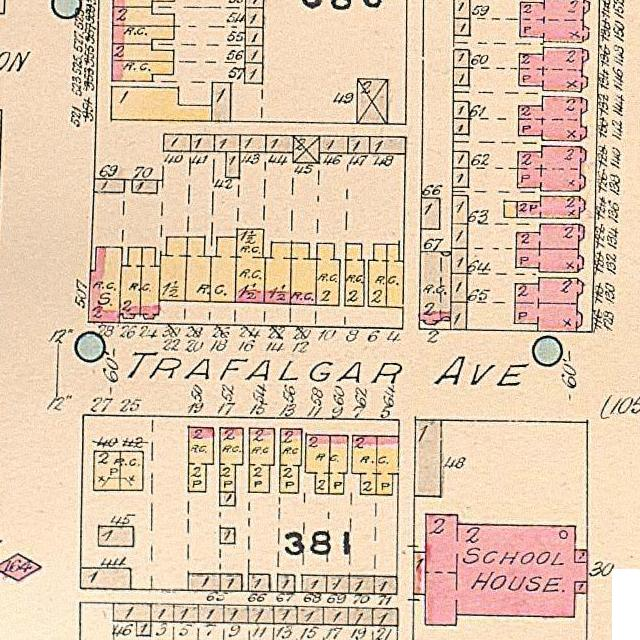building-footprints: (425, 514, 587, 625), (514, 278, 582, 331), (111, 86, 211, 121), (518, 48, 588, 92), (518, 96, 586, 141), (517, 146, 585, 191), (519, 0, 589, 42), (88, 247, 122, 323), (419, 252, 451, 325), (235, 229, 265, 303), (415, 420, 441, 496), (93, 451, 143, 490), (159, 237, 187, 301), (516, 224, 584, 249), (248, 428, 274, 493), (210, 237, 236, 302), (264, 242, 291, 303), (119, 247, 142, 318), (188, 427, 213, 492), (185, 237, 210, 302), (290, 243, 316, 305), (516, 249, 583, 272), (219, 428, 243, 492), (351, 435, 376, 495), (516, 196, 584, 218), (139, 247, 160, 318), (316, 243, 339, 305), (305, 435, 329, 494), (279, 429, 301, 493), (375, 436, 398, 495), (357, 79, 387, 124), (111, 61, 173, 82), (344, 244, 364, 306), (112, 7, 173, 27), (368, 244, 387, 307), (328, 435, 348, 494), (112, 25, 174, 44), (80, 568, 131, 589), (386, 245, 403, 307), (112, 44, 173, 61), (293, 135, 318, 163), (113, 603, 151, 621), (212, 83, 230, 121), (98, 527, 133, 546), (369, 137, 405, 154), (187, 573, 220, 591), (421, 198, 439, 229), (296, 606, 323, 625), (413, 552, 425, 594), (265, 135, 293, 153), (198, 604, 224, 623), (319, 136, 347, 153), (347, 607, 372, 626), (372, 608, 398, 626), (164, 134, 190, 152), (239, 134, 265, 152), (173, 604, 198, 622), (248, 606, 273, 624), (301, 575, 326, 593), (349, 576, 374, 594), (323, 607, 348, 625), (451, 273, 466, 302), (452, 195, 467, 224), (224, 605, 248, 623), (113, 0, 174, 7), (451, 302, 466, 330), (150, 604, 173, 622), (274, 606, 297, 624), (326, 575, 349, 593), (374, 576, 397, 594), (191, 134, 214, 152), (451, 249, 467, 274), (214, 135, 239, 151), (248, 574, 270, 592), (347, 136, 369, 154), (244, 62, 262, 84), (219, 574, 242, 591), (451, 224, 467, 248), (245, 7, 263, 28), (225, 151, 239, 178), (94, 179, 123, 192), (244, 45, 263, 63), (131, 180, 157, 193), (453, 0, 470, 19), (245, 27, 262, 46), (277, 575, 295, 592), (453, 18, 470, 36), (452, 168, 468, 187), (453, 68, 469, 86), (453, 50, 469, 68), (452, 118, 469, 134), (453, 101, 469, 118), (219, 528, 235, 544), (453, 151, 468, 168), (503, 201, 517, 218), (219, 492, 235, 506), (136, 622, 150, 636), (574, 550, 587, 562), (245, 0, 263, 8), (574, 582, 586, 593)
